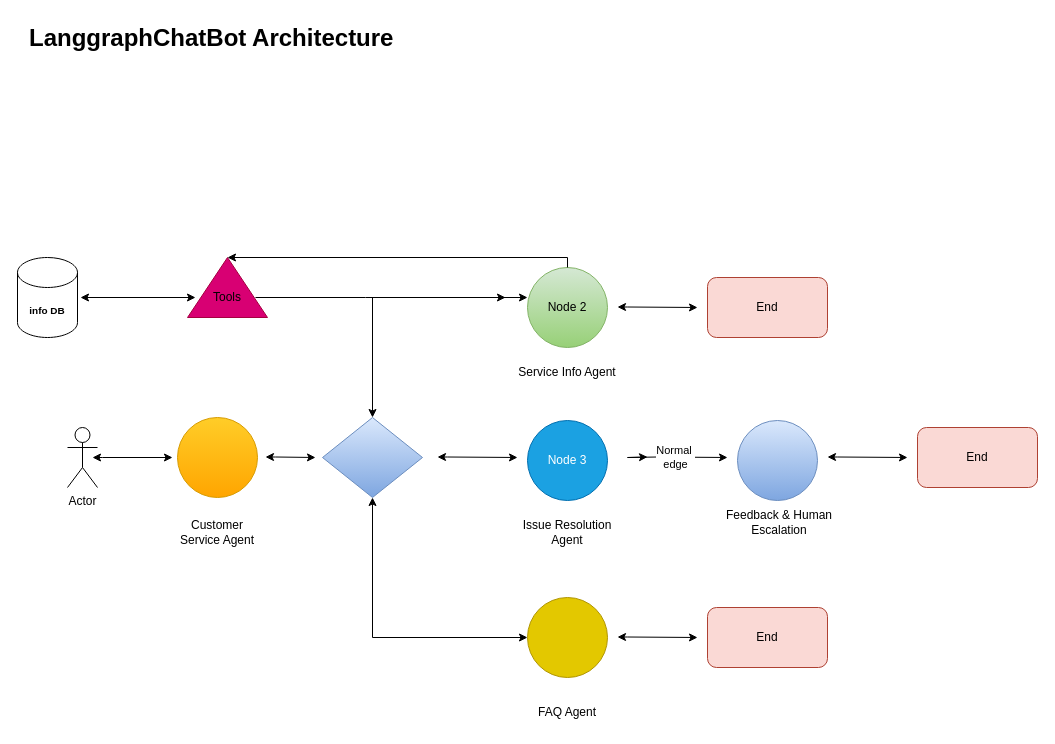
This 1055x744 diagram has some shape labels left out. The shapes that lost their labels are listed below. From the top down, each one's box as (x1, y1, x2, y2) in pixels, then its label:
(176, 416, 258, 498): Node 1
(322, 416, 422, 498): Conditional edge
(736, 420, 818, 500): Node 5
(526, 596, 608, 678): Node 4
